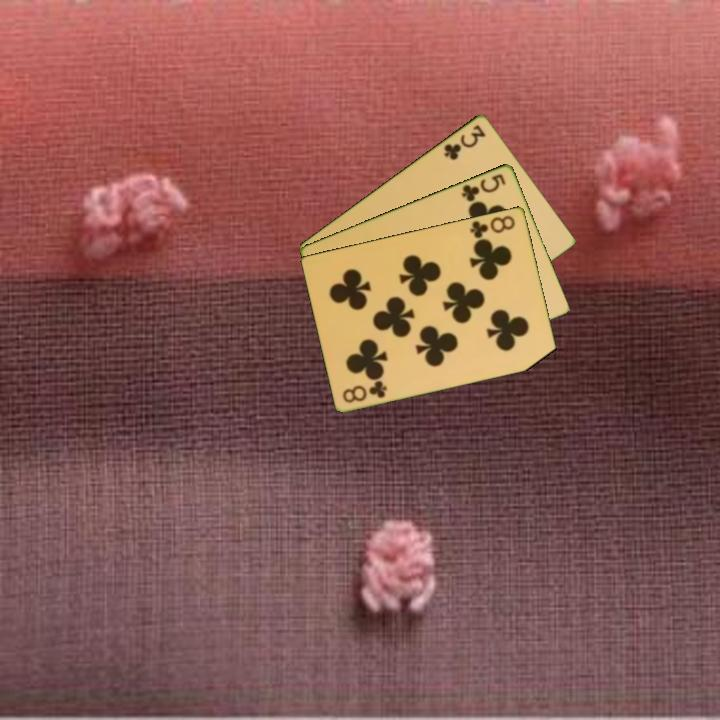3c: (440, 121, 489, 163)
5c: (458, 170, 508, 204)
8c: (466, 212, 518, 241), (339, 377, 390, 405)
